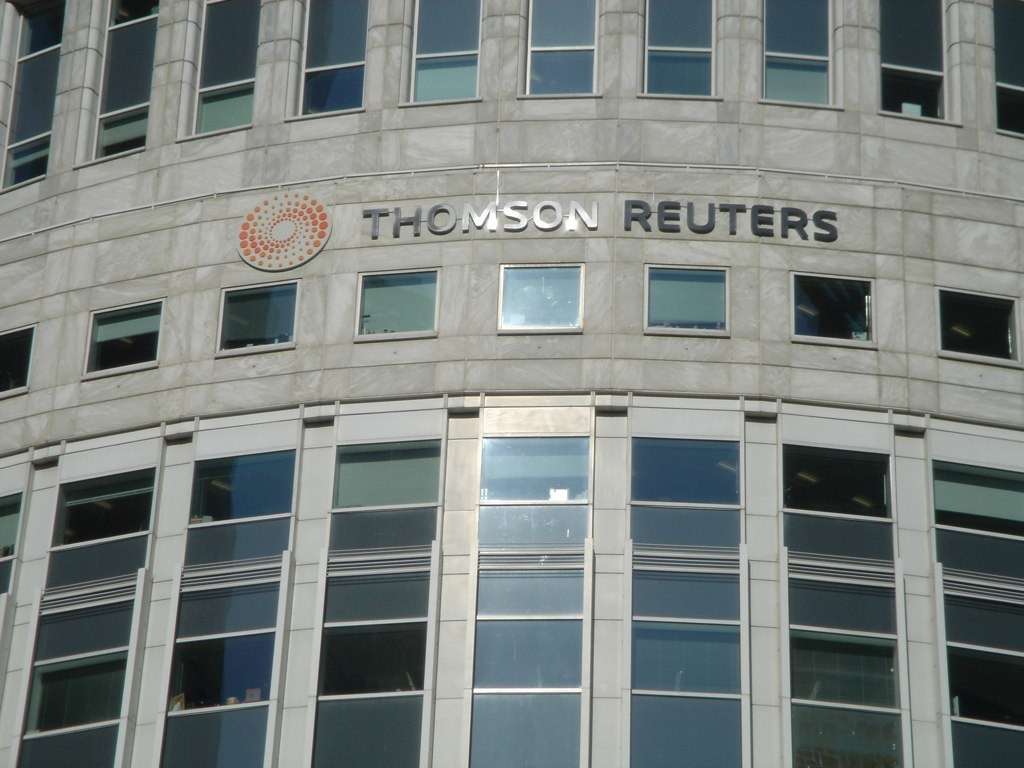Window: (775, 439, 918, 767), (607, 428, 745, 767), (464, 427, 601, 767), (306, 432, 441, 767), (153, 454, 294, 762), (10, 462, 141, 767), (934, 463, 1023, 767), (877, 0, 977, 121), (0, 0, 64, 182), (83, 0, 153, 162), (293, 0, 371, 132), (394, 0, 490, 102), (626, 0, 727, 96), (752, 0, 845, 104), (526, 0, 613, 104), (184, 0, 257, 120), (782, 265, 879, 353), (205, 278, 306, 361), (927, 284, 1023, 365), (84, 292, 168, 373), (498, 261, 589, 335), (642, 265, 727, 342), (0, 466, 36, 633), (354, 265, 441, 333), (985, 0, 1023, 140), (0, 330, 33, 403)
